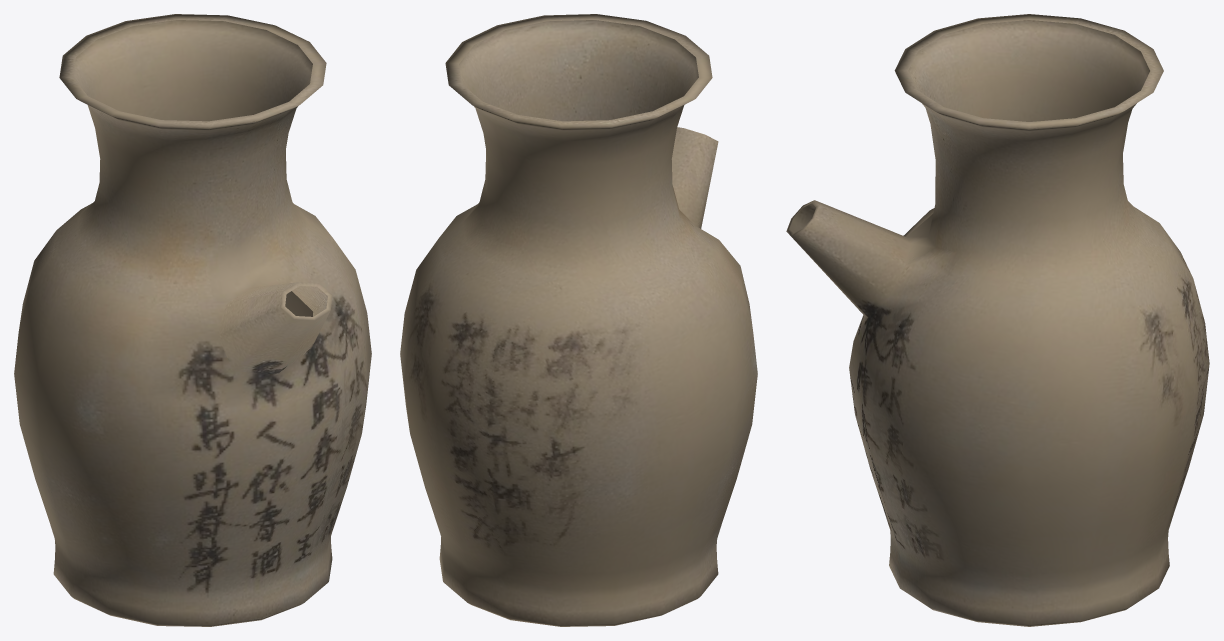
Rendered from artifact_poem.fbx.
3 renders of one model, left to right at view 1: azimuth 30°, elevation 25°; view 2: azimuth 150°, elevation 25°; view 3: azimuth 270°, elevation 25°, orthographic.
Parts seen in each view (by area): view 1: poem; view 2: poem; view 3: poem.
Boxes of the visible parts, left/top/right/bottom form: poem: left=14, top=14, right=371, bottom=626; poem: left=400, top=14, right=757, bottom=626; poem: left=786, top=14, right=1209, bottom=626.
Bounding box in the file's own units: 304 × 464 × 357.
1 material, 1 textured.
